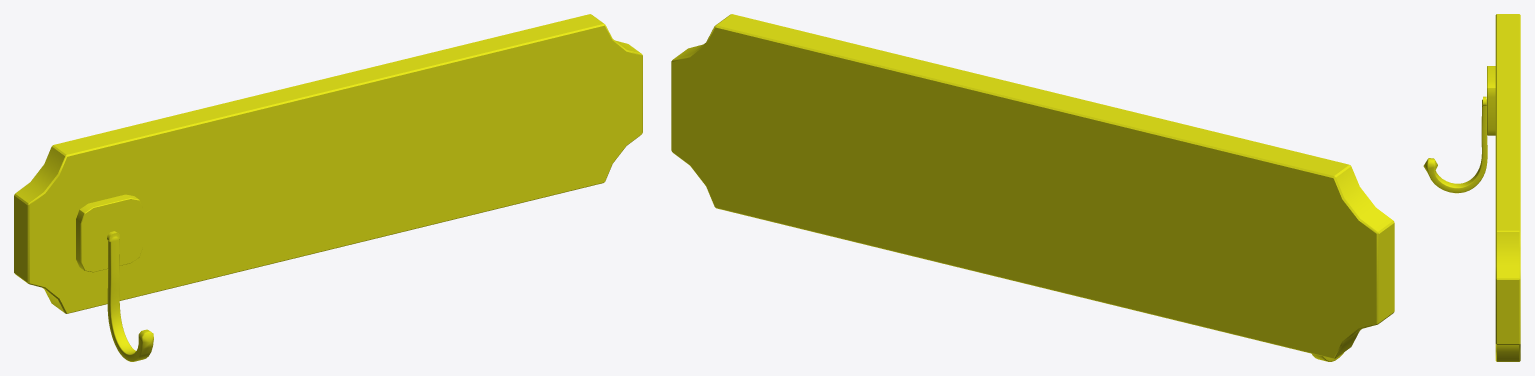
Rendered from Key_Hanger.fbx.
3 renders of one model, left to right at view 1: azimuth 30°, elevation 25°; view 2: azimuth 150°, elevation 25°; view 3: azimuth 270°, elevation 25°, orthographic. The views are drawn at different scales.
Parts seen in each view (by area): view 1: KeyHanger_Frame, Hook_Base, Hook_Hook; view 2: KeyHanger_Frame; view 3: KeyHanger_Frame, Hook_Hook, Hook_Base.
Part boxes in pixels (x1,y1,x2,y2): KeyHanger_Frame: (14,14,642,313); Hook_Base: (76,194,142,272); Hook_Hook: (107,231,153,361); KeyHanger_Frame: (671,14,1394,358); KeyHanger_Frame: (1495,14,1520,361); Hook_Hook: (1423,96,1487,193); Hook_Base: (1487,66,1495,135).
Size of the model in its own units: 12 by 3.64 by 1.99.
